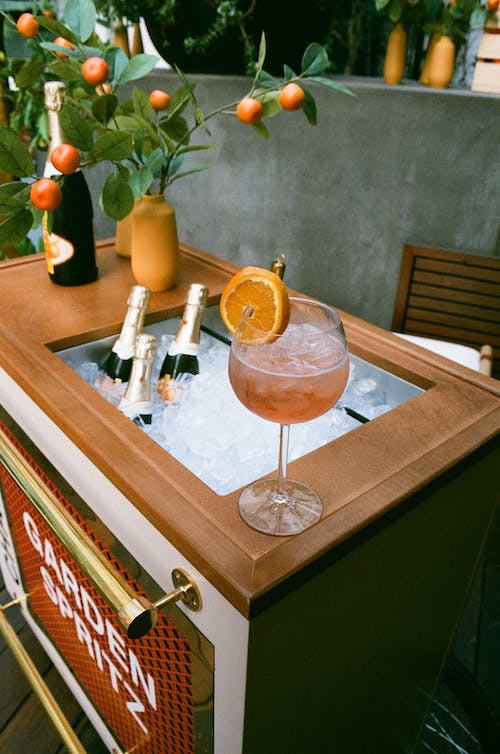alcohol: (225, 295, 352, 538), (38, 79, 101, 289), (93, 281, 153, 392), (157, 280, 209, 392), (114, 333, 158, 429)
